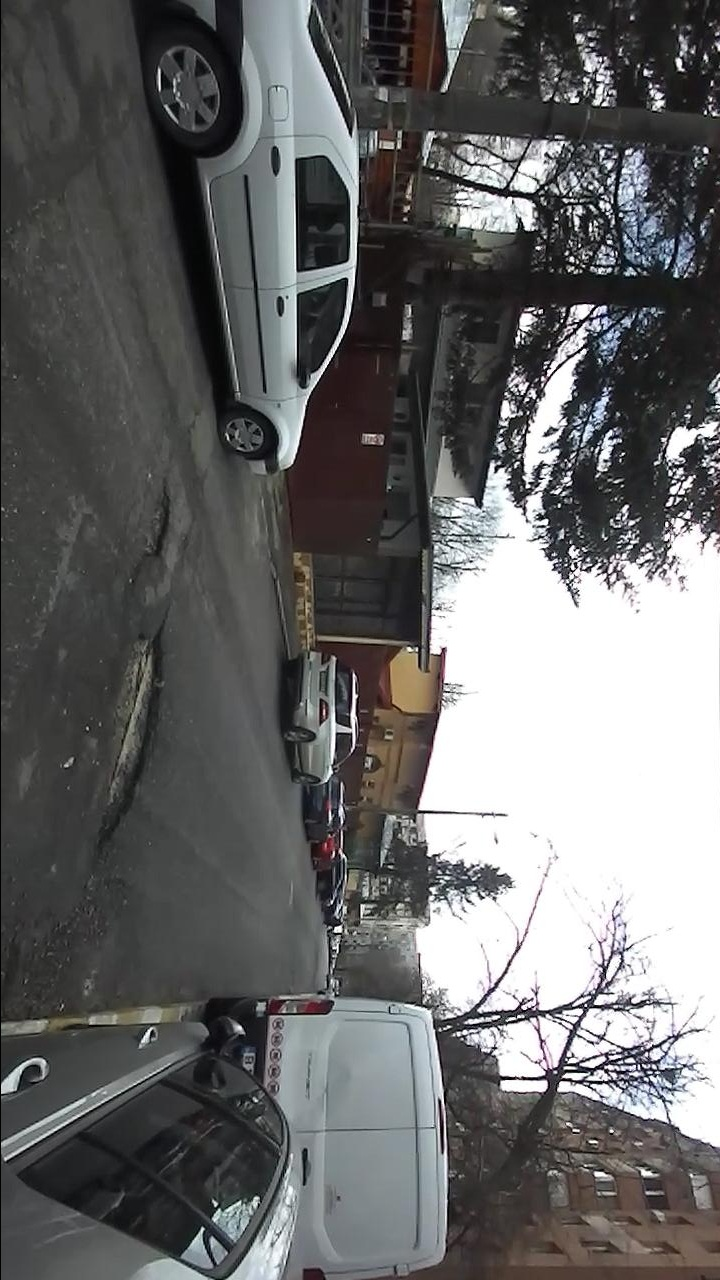pothole: (82, 622, 169, 862), (133, 476, 174, 576)
